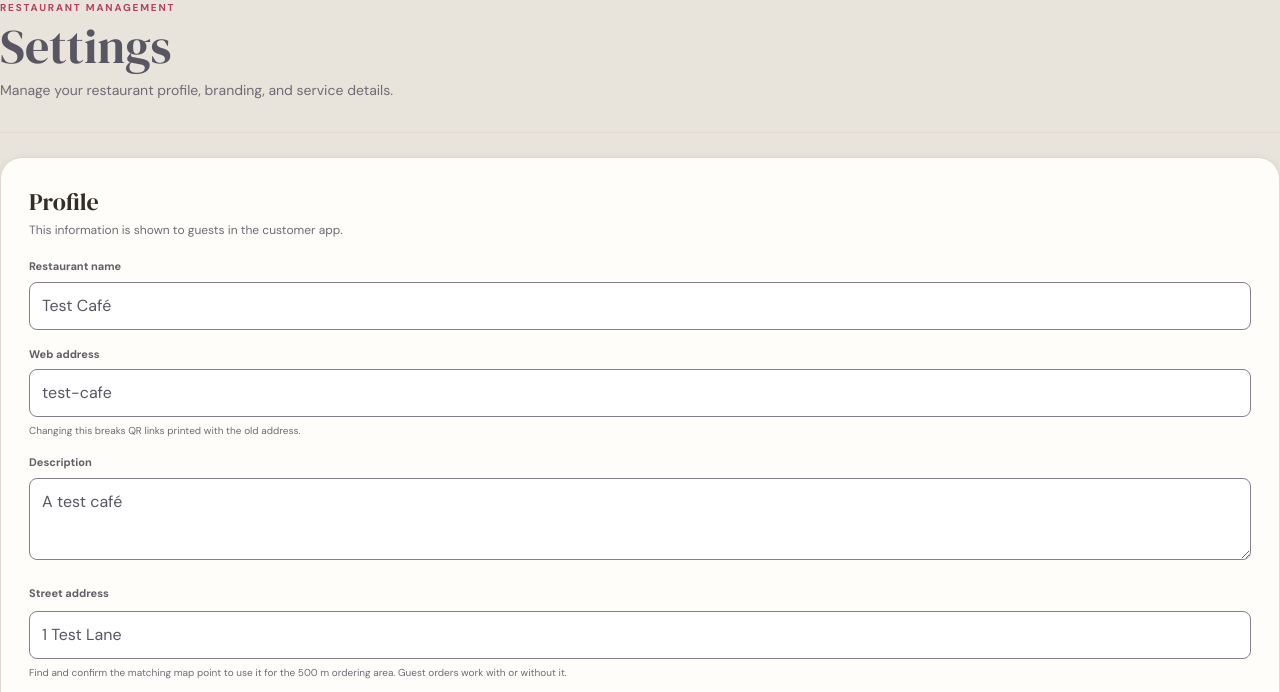
Test: SettingsPage › refuses to save a cleared web address
Clear the field labelled "Web address". click: (640, 393)
box: [29,369,1251,417]
(page scrolled)
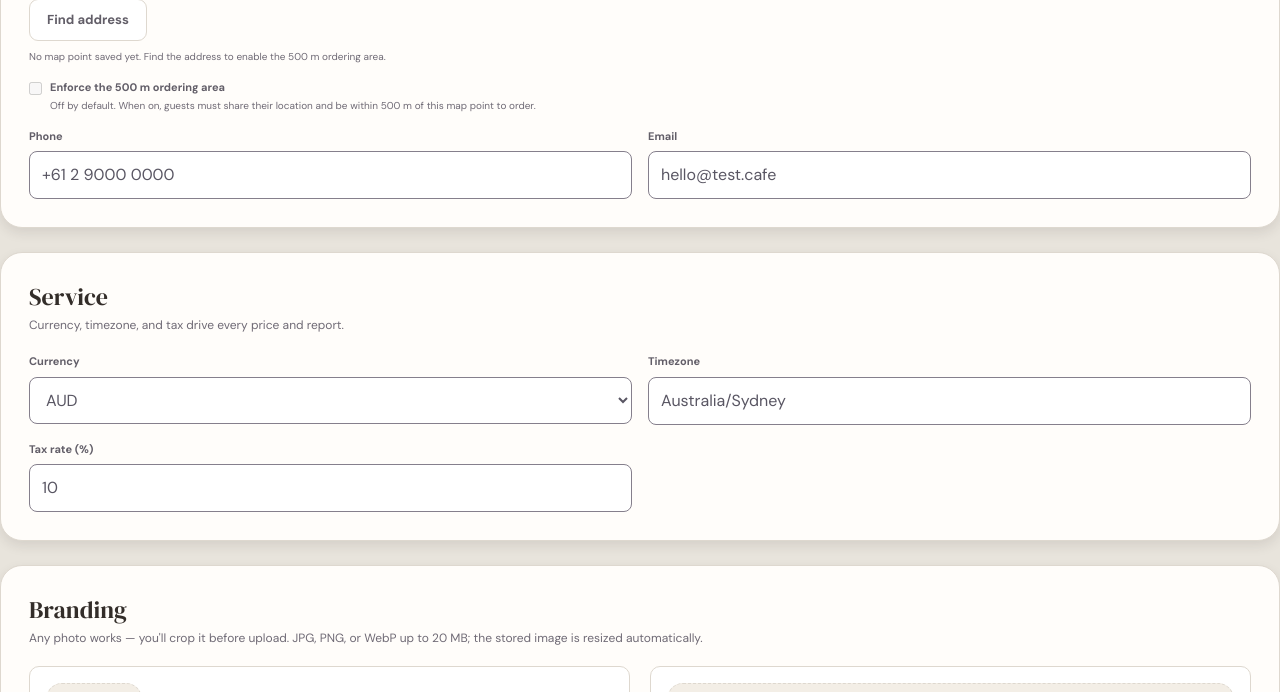
Submit the form named "save changes"
(page scrolled)
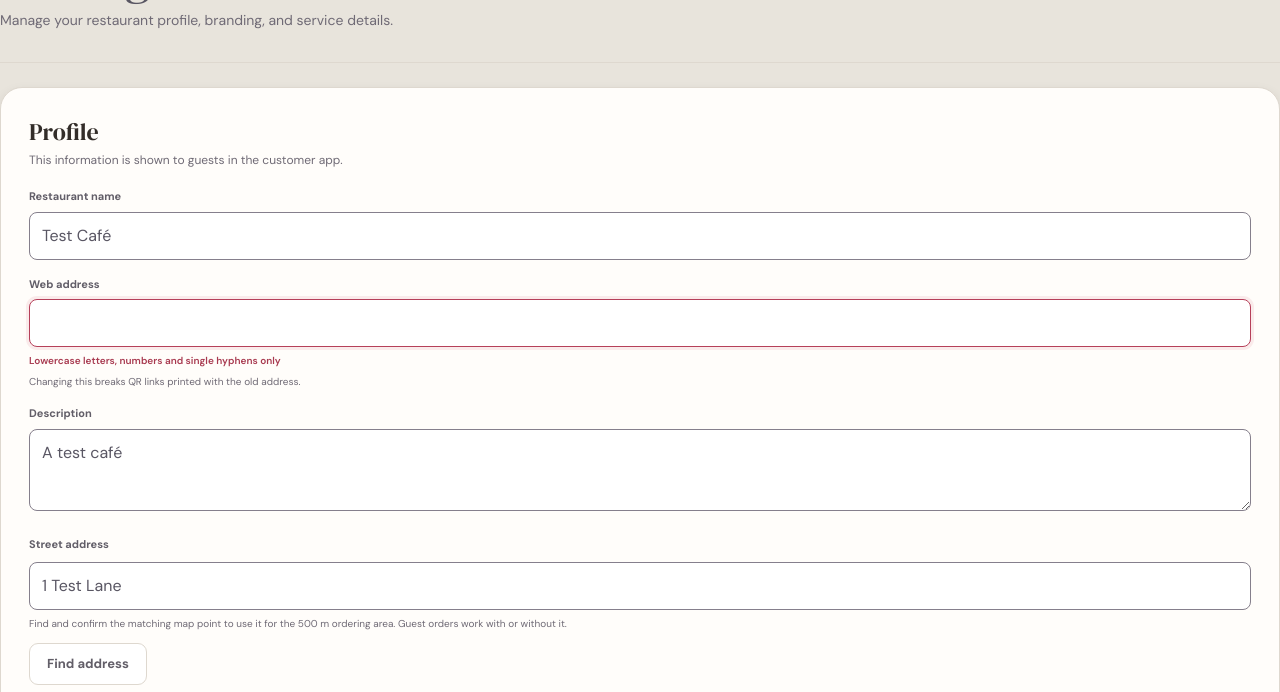
Expected: the text "Lowercase letters, numbers and single hyphens only" is shown, [29,354,281,367]
